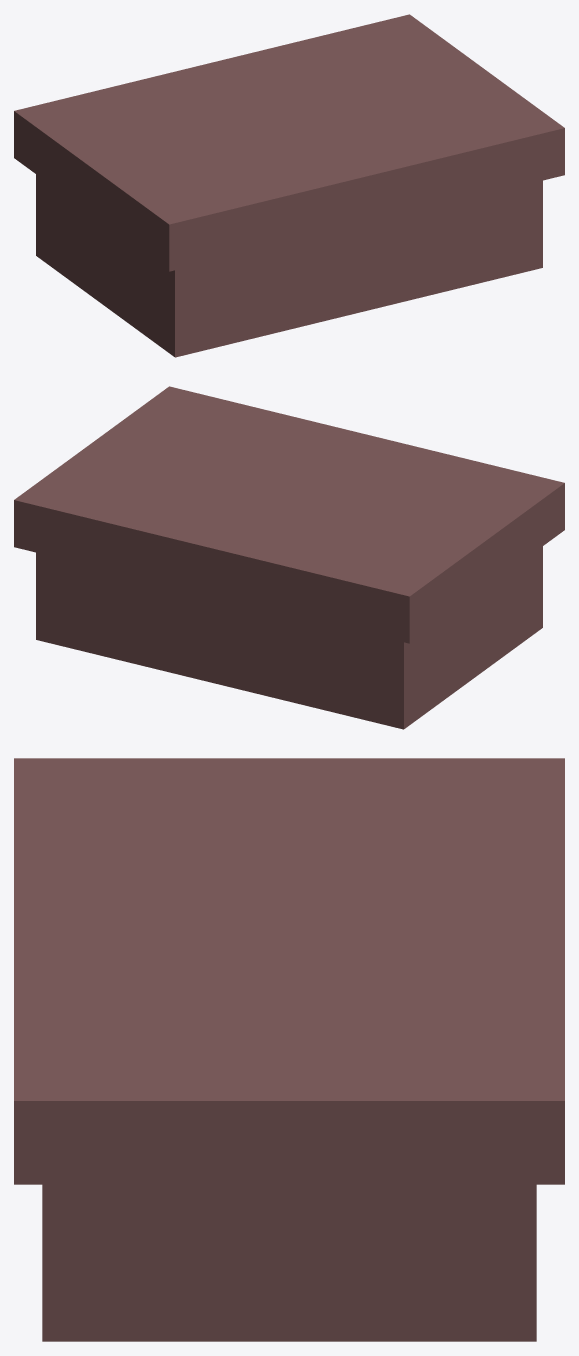
File: Prop_Box_02.fbx
3 renders of one model, top to bottom at view 1: azimuth 30°, elevation 25°; view 2: azimuth 150°, elevation 25°; view 3: azimuth 270°, elevation 25°, orthographic. The views are drawn at different scales.
Visible parts, largest first — view 1: Prop_Box_02; view 2: Prop_Box_02; view 3: Prop_Box_02.
Part boxes in pixels (x1,y1,x2,y2): Prop_Box_02: (14, 14, 564, 357); Prop_Box_02: (14, 386, 564, 729); Prop_Box_02: (14, 758, 564, 1341).
Bounding box in the file's own units: 68.42 × 23.51 × 46.51.
